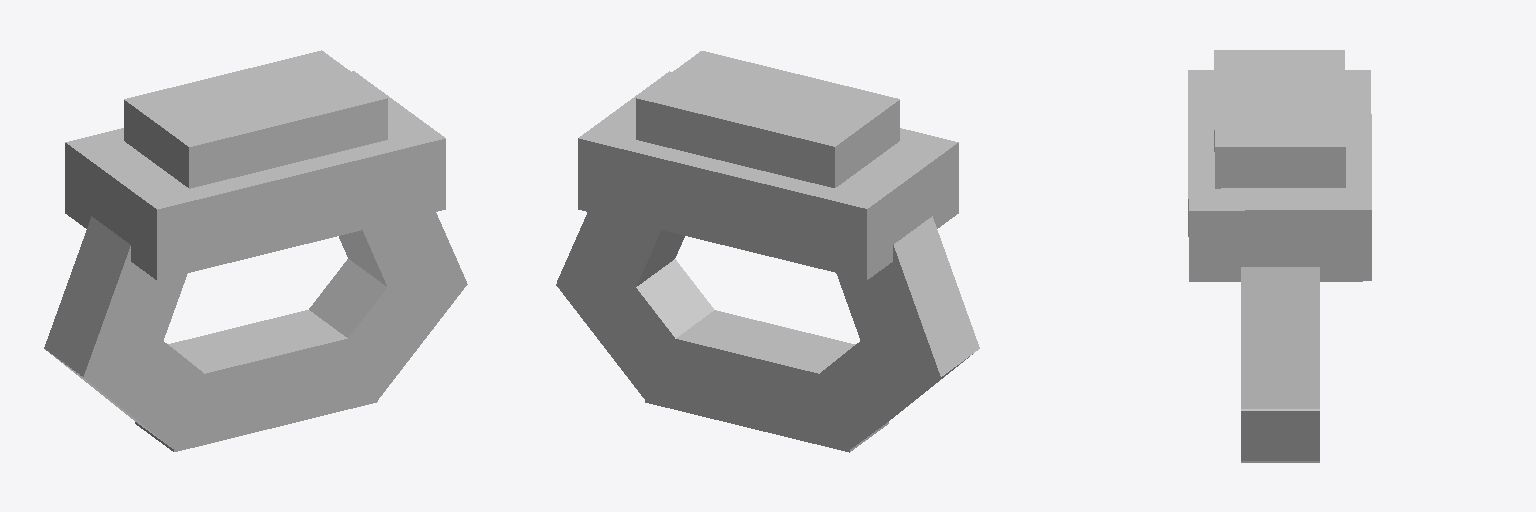
Rendered from deidara's_ring2.obj.
3 renders of one model, left to right at view 1: azimuth 30°, elevation 25°; view 2: azimuth 150°, elevation 25°; view 3: azimuth 270°, elevation 25°, orthographic.
Parts seen in each view (by area): view 1: cube; view 2: cube; view 3: cube.
Boxes of the visible parts, x1,y1,x2,y2 form: cube: [44, 50, 467, 451]; cube: [556, 51, 979, 452]; cube: [1188, 50, 1371, 462].
Size of the model in its own units: 1.06 by 0.8297 by 0.4392.